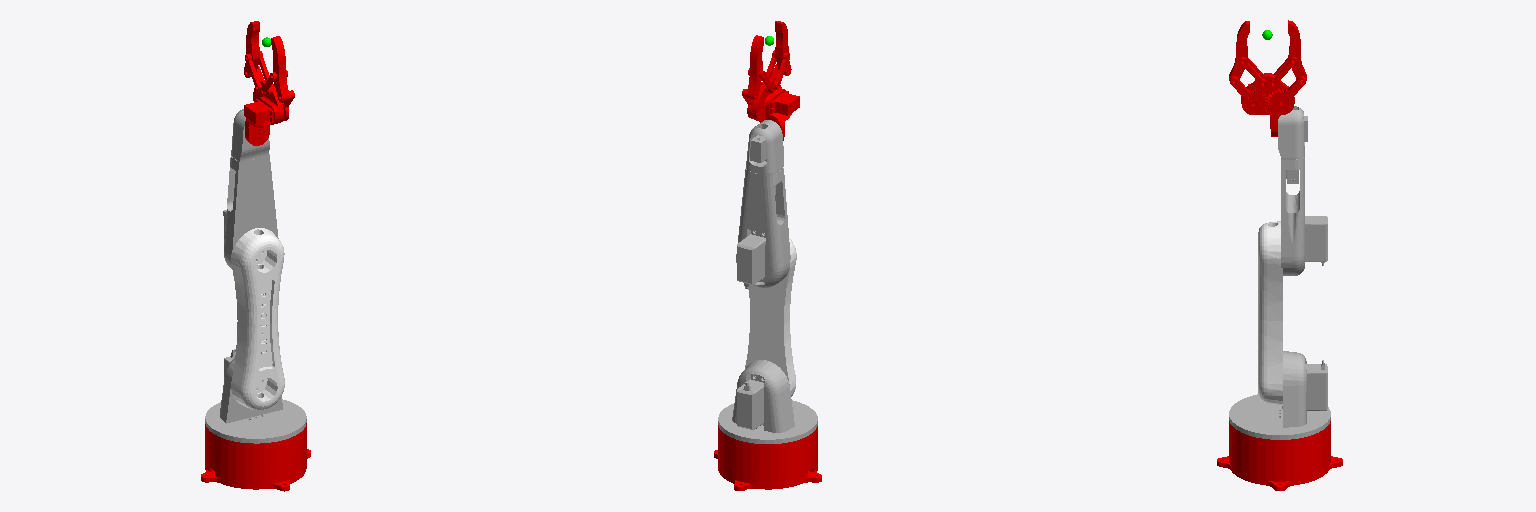
robot.urdf — R5_DOF_Robot_Assembly:
<?xml version="1.0" encoding="utf-8"?>
<robot name="R5_DOF_Robot_Assembly">

  <!-- ===== world alignment helper (no mass, no visuals) ===== -->
  <link name="base_footprint"/>
  <joint name="base_footprint_to_Base_Link" type="fixed">
    <parent link="base_footprint"/>
    <child link="Base_Link"/>
    <origin xyz="0 0 0" rpy="0 0 0"/>
  </joint>

  <!-- ===================== Base_Link ===================== -->
  <link name="Base_Link">
   <inertial>
  <origin xyz="0 0 0" rpy="0 0 0"/>
  <mass value="0.8"/>
  <inertia ixx="0.002" ixy="0" ixz="0" iyy="0.002" iyz="0" izz="0.002"/>
</inertial>


    <!-- visual (kept from SW export) -->
    <visual>
      <origin xyz="0 0 0" rpy="0 0 0"/>
      <geometry><mesh filename="package://my_robot_gazebo/meshes/Base_Link.STL"/></geometry>
      <material name=""><color rgba="1 0 0 1"/></material>
    </visual>

    <!-- stable collision: simple cylinder footprint -->
    <collision>
      <origin xyz="0 0 -0.030" rpy="0 0 0"/>
      <geometry><cylinder radius="0.060" length="0.020"/></geometry>
    </collision>
  </link>

 


  <link name="Rotating_Waste">
   <inertial>
  <origin xyz="0 0 0" rpy="0 0 0"/>
  <mass value="0.7"/>
  <inertia ixx="0.0015" ixy="0" ixz="0" iyy="0.0015" iyz="0" izz="0.0015"/>
</inertial>


    <visual>
      <origin xyz="0 0 0" rpy="0 0 0"/>
      <geometry><mesh filename="package://my_robot_gazebo/meshes/Rotating_Waste.STL"/></geometry>
      <material name=""><color rgba="0.75294 0.75294 0.75294 1"/></material>
    </visual>


    <collision>
      <origin xyz="0 0 0" rpy="0 0 0"/>
      <geometry><cylinder radius="0.055" length="0.010"/></geometry>
    </collision>
  </link>

  <joint name="Joint_1" type="revolute">
    <origin xyz="0 0 0" rpy="0 0 0"/>
    <parent link="Base_Link"/>
    <child  link="Rotating_Waste"/>
    <axis xyz="0 0 1"/>
    <limit lower="-3.14159" upper="3.14159" effort="200" velocity="2.0"/>
  <dynamics damping="3.0" friction="0.2"/>

  </joint>

<gazebo reference="Joint_1">
  <cfm>0.0</cfm><erp>0.2</erp><stop_cfm>0.0</stop_cfm><stop_erp>0.2</stop_erp>
</gazebo>
  <link name="Arm_1">
  <inertial>
  <origin xyz="0 0 0" rpy="0 0 0"/>
  <mass value="0.6"/>
  <inertia ixx="0.0012" ixy="0" ixz="0" iyy="0.0004" iyz="0" izz="0.0012"/>
</inertial>


    <visual>
      <origin xyz="0 0 0" rpy="0 0 0"/>
      <geometry><mesh filename="package://my_robot_gazebo/meshes/Arm_1.STL"/></geometry>
      <material name=""><color rgba="1 1 1 1"/></material>
    </visual>


    <collision>

    <origin xyz="0 0 0.06" rpy="0 0 0"/>
    <geometry>
      <cylinder radius="0.020" length="0.12"/>
    </geometry>
  </collision>
  </link>

  <joint name="Joint_2" type="revolute">
    <origin xyz="-2.7567E-05 0.0061999 0.04975" rpy="1.5708 0 0"/>
    <parent link="Rotating_Waste"/>
    <child  link="Arm_1"/>
    <axis xyz="0 0 1"/>
   <limit lower="-3.14159" upper="3.14159" effort="200" velocity="2.0"/>
  <dynamics damping="3.0" friction="0.2"/>

  </joint>


  <link name="Arm_2">
  <inertial>
  <origin xyz="0 0 0" rpy="0 0 0"/>
  <mass value="0.5"/>
  <inertia ixx="0.0009" ixy="0" ixz="0" iyy="0.0003" iyz="0" izz="0.0009"/>
</inertial>


    <visual>
      <origin xyz="0 0 0" rpy="0 0 0"/>
      <geometry><mesh filename="package://my_robot_gazebo/meshes/Arm_2.STL"/></geometry>
      <material name=""><color rgba="0.75294 0.75294 0.75294 1"/></material>
    </visual>


    <collision>
      <origin xyz="0 0 0.06" rpy="0 0 0"/>
    <geometry>
      <cylinder radius="0.018" length="0.12"/>
    </geometry>

    </collision>
  </link>

  <joint name="Joint_3" type="revolute">
    <origin xyz="0 0.140 0.000" rpy="0 0 1.5708"/>
    <parent link="Arm_1"/>
    <child  link="Arm_2"/>
    <axis xyz="0 0 -1"/>
    <limit lower="-3.14159" upper="3.14159" effort="200" velocity="2.0"/>
  <dynamics damping="3.0" friction="0.2"/>

  </joint>
  <gazebo reference="Joint_3">
  <cfm>0.0</cfm><erp>0.2</erp><stop_cfm>0.0</stop_cfm><stop_erp>0.2</stop_erp>
</gazebo>


  <link name="Arm_3">
 <inertial>
  <origin xyz="0 0 0" rpy="0 0 0"/>
  <mass value="0.4"/>
  <inertia ixx="0.0006" ixy="0" ixz="0" iyy="0.0002" iyz="0" izz="0.0006"/>
</inertial>


    <visual>
      <origin xyz="0 0 0" rpy="0 0 0"/>
      <geometry><mesh filename="package://my_robot_gazebo/meshes/Arm_3.STL"/></geometry>
      <material name=""><color rgba="0.75294 0.75294 0.75294 1"/></material>
    </visual>


    <collision>
      <origin xyz="0 0 0" rpy="0 0 0"/>
      <geometry><cylinder radius="0.015" length="0.140"/></geometry>
    </collision>
  </link>

  <joint name="Joint_4" type="revolute">
    <origin xyz="0 0 0" rpy="-1.5708 0 -1.5708"/>
    <parent link="Arm_2"/>
    <child  link="Arm_3"/>
    <axis xyz="0 0 -1"/>
   <limit lower="-3.14159" upper="3.14159" effort="200" velocity="2.0"/>
  <dynamics damping="3.0" friction="0.2"/>

  </joint>


  <link name="Gripper">
   <inertial>
  <origin xyz="0 0 0" rpy="0 0 0"/>
  <mass value="0.3"/>
  <inertia ixx="0.0003" ixy="0" ixz="0" iyy="0.0001" iyz="0" izz="0.0003"/>
</inertial>


    <visual>
      <origin xyz="0 0 0" rpy="0 0 0"/>
      <geometry><mesh filename="package://my_robot_gazebo/meshes/Gripper.STL"/></geometry>
      <material name=""><color rgba="1 0 0 1"/></material>
    </visual>


    <collision>
      <origin xyz="0 0 0" rpy="0 0 0"/>
      <geometry><box size="0.030 0.080 0.030"/></geometry>
    </collision>
  </link>

  <joint name="Joint_5" type="revolute">
    <origin xyz="-0.001651 -0.0054574 0.13289" rpy="1.5708 0 0"/>
    <parent link="Arm_3"/>
    <child  link="Gripper"/>
    <axis xyz="0 0 1"/>
    <limit lower="-3.14159" upper="3.14159" effort="200" velocity="2.0"/>
  <dynamics damping="3.0" friction="0.2"/>

  </joint>
<gazebo reference="Base_Link"><gravity>0</gravity><self_collide>false</self_collide><collide_bitmask>0</collide_bitmask></gazebo>
<gazebo reference="Rotating_Waste"><gravity>0</gravity><self_collide>false</self_collide><collide_bitmask>0</collide_bitmask></gazebo>
<gazebo reference="Arm_1"><gravity>0</gravity><self_collide>false</self_collide><collide_bitmask>0</collide_bitmask></gazebo>
<gazebo reference="Arm_2"><gravity>0</gravity><self_collide>false</self_collide><collide_bitmask>0</collide_bitmask></gazebo>
<gazebo reference="Arm_3"><gravity>0</gravity><self_collide>false</self_collide><collide_bitmask>0</collide_bitmask></gazebo>
<gazebo reference="Gripper"><gravity>0</gravity><self_collide>false</self_collide><collide_bitmask>0</collide_bitmask></gazebo>


<!-- === TOOL FRAME kept as a real link in Gazebo === -->
<link name="EE_frame">
  <!-- Minimal inertial: tiny mass + diagonal inertia -->
  <inertial>
    <origin xyz="0 0 0" rpy="0 0 0"/>
    <mass value="0.001"/>
    <inertia ixx="1e-6" ixy="0" ixz="0" iyy="1e-6" iyz="0" izz="1e-6"/>
  </inertial>

  <!-- Optional tiny visual marker so you can see it -->
  <visual>
    <origin xyz="0 0 0" rpy="0 0 0"/>
    <geometry><sphere radius="0.005"/></geometry>
    <material name=""><color rgba="0 1 0 1"/></material>
  </visual>

  <!-- Optional tiny collision (we’ll disable contacts below anyway) -->
  <collision>
    <origin xyz="0 0 0" rpy="0 0 0"/>
    <geometry><sphere radius="0.001"/></geometry>
  </collision>
</link>

<!-- Lock it to the Gripper but keep it as a separate body -->
<joint name="EE_frame_lock" type="revolute">
  <parent link="Gripper"/>
  <child  link="EE_frame"/>
  <!-- Set your desired offset/orientation of the frame w.r.t. Gripper -->
  <origin xyz="0.007 0.1 0.013" rpy="0 0 0"/>
  <axis xyz="1 0 0"/>
  <limit lower="0.0" upper="0.0" effort="1" velocity="0.1"/>
  <dynamics damping="1.0" friction="0.0"/>
</joint>

<!-- Gazebo per-link flags: no gravity, no self collisions, no contact generation -->
<gazebo reference="EE_frame">
  <gravity>0</gravity>
  <self_collide>false</self_collide>
  <collide_bitmask>0</collide_bitmask>
</gazebo>



 

<!-- ======= Transmissions: POSITION interface ======= -->
<transmission name="Joint_1_trans">
  <type>transmission_interface/SimpleTransmission</type>
  <actuator name="Joint_1_motor">
    <hardwareInterface>hardware_interface/PositionJointInterface</hardwareInterface>
    <mechanicalReduction>1</mechanicalReduction>
  </actuator>
  <joint name="Joint_1">
    <hardwareInterface>hardware_interface/PositionJointInterface</hardwareInterface>
  </joint>
</transmission>

<transmission name="Joint_2_trans">
  <type>transmission_interface/SimpleTransmission</type>
  <actuator name="Joint_2_motor">
    <hardwareInterface>hardware_interface/PositionJointInterface</hardwareInterface>
    <mechanicalReduction>1</mechanicalReduction>
  </actuator>
  <joint name="Joint_2">
    <hardwareInterface>hardware_interface/PositionJointInterface</hardwareInterface>
  </joint>
</transmission>

<transmission name="Joint_3_trans">
  <type>transmission_interface/SimpleTransmission</type>
  <actuator name="Joint_3_motor">
    <hardwareInterface>hardware_interface/PositionJointInterface</hardwareInterface>
    <mechanicalReduction>1</mechanicalReduction>
  </actuator>
  <joint name="Joint_3">
    <hardwareInterface>hardware_interface/PositionJointInterface</hardwareInterface>
  </joint>
</transmission>

<transmission name="Joint_4_trans">
  <type>transmission_interface/SimpleTransmission</type>
  <actuator name="Joint_4_motor">
    <hardwareInterface>hardware_interface/PositionJointInterface</hardwareInterface>
    <mechanicalReduction>1</mechanicalReduction>
  </actuator>
  <joint name="Joint_4">
    <hardwareInterface>hardware_interface/PositionJointInterface</hardwareInterface>
  </joint>
</transmission>

<transmission name="Joint_5_trans">
  <type>transmission_interface/SimpleTransmission</type>
  <actuator name="Joint_5_motor">
    <hardwareInterface>hardware_interface/PositionJointInterface</hardwareInterface>
    <mechanicalReduction>1</mechanicalReduction>
  </actuator>
  <joint name="Joint_5">
    <hardwareInterface>hardware_interface/PositionJointInterface</hardwareInterface>
  </joint>
</transmission>




</robot>

--- Render facts (derived) ---
3 views of the same robot in one strip: view 1: azimuth 30°, elevation 25°; view 2: azimuth 150°, elevation 25°; view 3: azimuth 270°, elevation 25° (orthographic).
Model R5_DOF_Robot_Assembly with 8 links and 7 joints (6 revolute, 1 fixed), rooted at base_footprint, posed all joints at 0.
Visible links, largest first — view 1: Arm_1, Base_Link, Rotating_Waste, Arm_2, Gripper, Arm_3; view 2: Rotating_Waste, Arm_2, Base_Link, Arm_1, Gripper, Arm_3; view 3: Rotating_Waste, Base_Link, Arm_1, Gripper, Arm_2, Arm_3.
Boxes of the visible links, x1,y1,x2,y2 form: Arm_1: (231,228,284,409); Base_Link: (201,423,310,491); Rotating_Waste: (205,349,306,443); Arm_2: (223,154,278,268); Gripper: (244,21,294,145); Arm_3: (231,109,269,161); Rotating_Waste: (718,360,817,443); Arm_2: (736,168,790,289); Base_Link: (714,425,821,490); Arm_1: (745,238,796,396); Gripper: (742,21,799,140); Arm_3: (746,120,783,174); Rotating_Waste: (1229,351,1330,439); Base_Link: (1217,421,1342,490); Arm_1: (1258,221,1282,405); Gripper: (1229,20,1306,136); Arm_2: (1281,157,1327,275); Arm_3: (1278,106,1307,159).
Size in the robot's own frame: 0.124 by 0.124 by 0.4799 metres.
6 mesh visuals loaded from 6 distinct referenced files (6 binary STL).